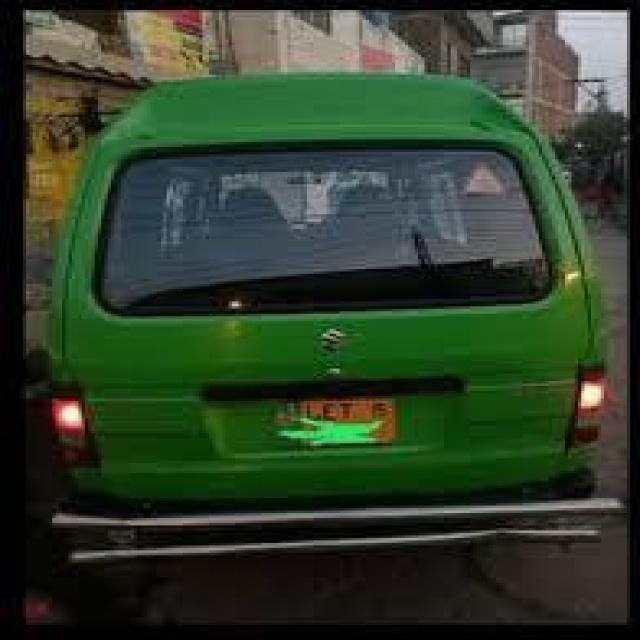Van: (36, 70, 633, 568)
